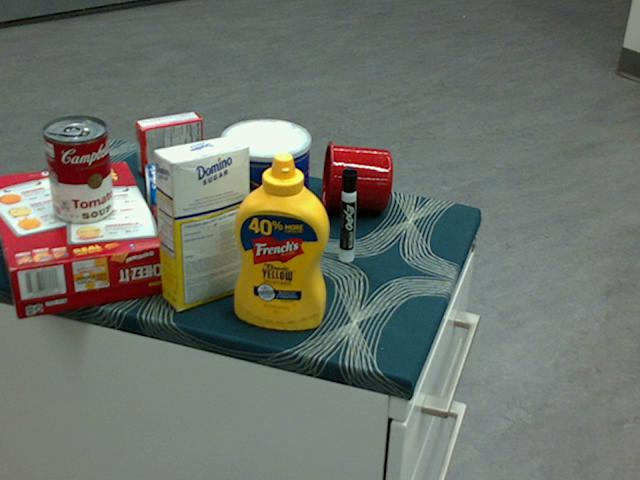cracker_box: (0, 159, 170, 318)
gelatin_box: (135, 111, 202, 176)
large_marker: (340, 166, 358, 262)
master_chef_can: (219, 118, 309, 262)
mug: (320, 139, 391, 211)
mustard_bottle: (234, 151, 330, 330)
potted_meat_can: (198, 128, 280, 215)
sugar_box: (153, 135, 250, 310)
tomato_soup_can: (42, 115, 113, 224)
tuna_fish_can: (142, 163, 174, 233)
